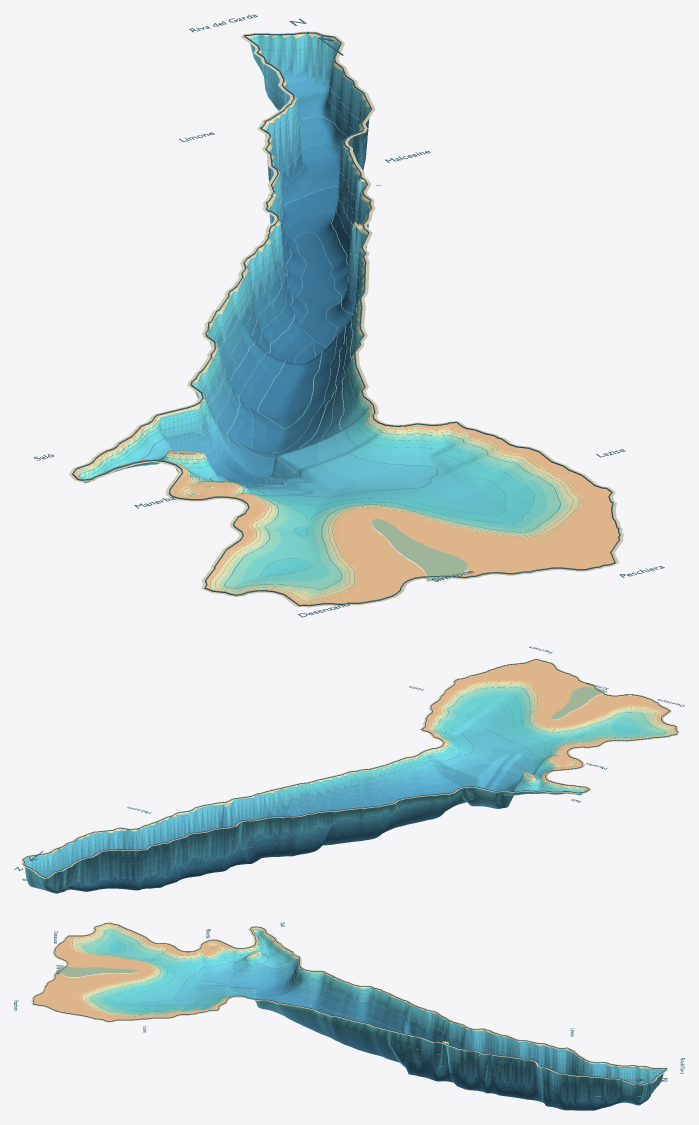
File: lake-garda.glb
3 renders of one model, top to bottom at view 1: azimuth 30°, elevation 25°; view 2: azimuth 150°, elevation 25°; view 3: azimuth 270°, elevation 25°, orthographic. The views are drawn at different scales.
Parts seen in each view (by area): view 1: Lake Garda — estimated lakebed, Depth contours — metres, Lake Garda shoreline, Coastline outline, Penisola di Sirmione; view 2: Lake Garda — estimated lakebed, Lake Garda shoreline, Coastline outline, Depth contours — metres, Penisola di Sirmione; view 3: Lake Garda — estimated lakebed, Lake Garda shoreline, Coastline outline, Depth contours — metres, Penisola di Sirmione.
Part boxes in pixels (left/top/right/bottom): Lake Garda — estimated lakebed: left=73, top=33, right=619, bottom=604; Depth contours — metres: left=76, top=33, right=579, bottom=601; Lake Garda shoreline: left=69, top=31, right=623, bottom=607; Coastline outline: left=72, top=32, right=620, bottom=606; Penisola di Sirmione: left=371, top=519, right=467, bottom=581; Lake Garda — estimated lakebed: left=23, top=660, right=676, bottom=893; Lake Garda shoreline: left=21, top=658, right=679, bottom=878; Coastline outline: left=23, top=659, right=677, bottom=877; Depth contours — metres: left=24, top=681, right=674, bottom=886; Penisola di Sirmione: left=551, top=687, right=607, bottom=719; Lake Garda — estimated lakebed: left=33, top=923, right=665, bottom=1110; Lake Garda shoreline: left=31, top=922, right=668, bottom=1085; Coastline outline: left=33, top=922, right=666, bottom=1084; Depth contours — metres: left=72, top=926, right=665, bottom=1097; Penisola di Sirmione: left=59, top=965, right=138, bottom=976.
Bounding box in the file's own units: 31.25 × 4.3 × 54.35.
